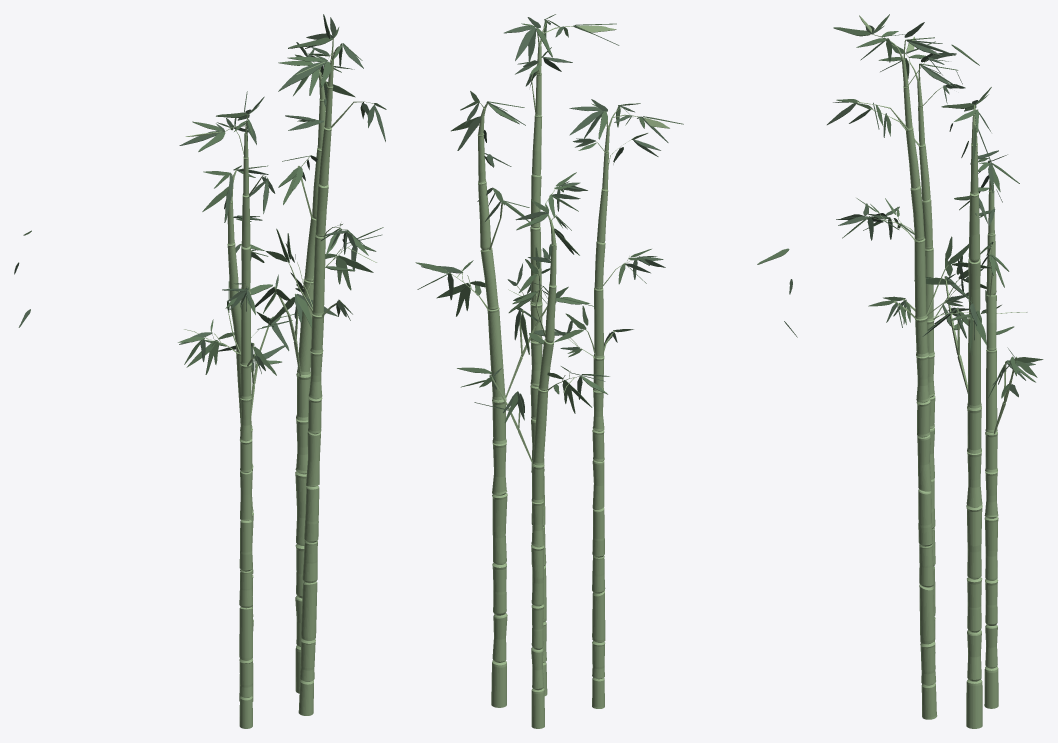
Rendered from groupLonger bamboo2-4.fbx.
The picture shows the model from 3 angles, left to right: view 1: azimuth 30°, elevation 25°; view 2: azimuth 150°, elevation 25°; view 3: azimuth 270°, elevation 25°; orthographic projection. The views are drawn at different scales.
Visible parts, largest first — view 1: Cylinder.321, Cylinder.003, Cylinder.002, Cylinder.005; view 2: Cylinder.003, Cylinder.002, Cylinder.005, Cylinder.321; view 3: Cylinder.321, Cylinder.003, Cylinder.005, Cylinder.002.
Boxes of the visible parts, x1=… form: Cylinder.321: x1=265, y1=14, x2=386, y2=715; Cylinder.003: x1=250, y1=61, x2=383, y2=693; Cylinder.002: x1=179, y1=91, x2=275, y2=728; Cylinder.005: x1=178, y1=165, x2=294, y2=701; Cylinder.003: x1=415, y1=91, x2=594, y2=707; Cylinder.002: x1=554, y1=99, x2=683, y2=708; Cylinder.005: x1=457, y1=200, x2=609, y2=728; Cylinder.321: x1=504, y1=14, x2=619, y2=695; Cylinder.321: x1=827, y1=14, x2=992, y2=719; Cylinder.003: x1=914, y1=87, x2=998, y2=728; Cylinder.005: x1=978, y1=154, x2=1043, y2=708; Cylinder.002: x1=849, y1=36, x2=986, y2=652.
Bounding box in the file's own units: 5569 × 9782 × 2728.
